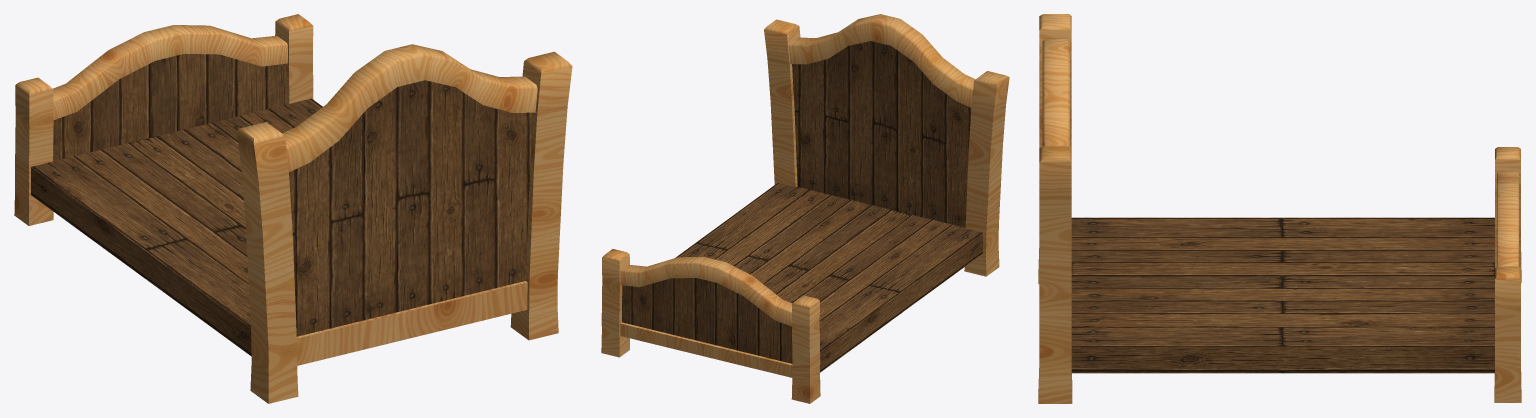
Rendered from Bedroom_Bed_Drop.fbx.
The picture shows the model from 3 angles, left to right: view 1: azimuth 30°, elevation 25°; view 2: azimuth 150°, elevation 25°; view 3: azimuth 270°, elevation 25°; orthographic projection. The views are drawn at different scales.
Parts seen in each view (by area): view 1: Bedroom_Bed_Drop.001, Bedroom_Bed_Drop.006, Bedroom_Bed_Drop.009, Bedroom_Bed_Drop.003, Bedroom_Bed_Drop.002, Bedroom_Bed_Drop.000, Bedroom_Bed_Drop.005, Bedroom_Bed_Drop.008, Bedroom_Bed_Drop.004; view 2: Bedroom_Bed_Drop.001, Bedroom_Bed_Drop.006, Bedroom_Bed_Drop.000, Bedroom_Bed_Drop.007, Bedroom_Bed_Drop.003, Bedroom_Bed_Drop.009, Bedroom_Bed_Drop.002, Bedroom_Bed_Drop.005, Bedroom_Bed_Drop.004, Bedroom_Bed_Drop.008; view 3: Bedroom_Bed_Drop.008, Bedroom_Bed_Drop.007, Bedroom_Bed_Drop.009, Bedroom_Bed_Drop.000, Bedroom_Bed_Drop.002, Bedroom_Bed_Drop.004, Bedroom_Bed_Drop.001, Bedroom_Bed_Drop.006, Bedroom_Bed_Drop.003, Bedroom_Bed_Drop.005.
Boxes of the visible parts, <box> form: Bedroom_Bed_Drop.001: <box>282,44,537,365</box>; Bedroom_Bed_Drop.006: <box>53,25,287,161</box>; Bedroom_Bed_Drop.009: <box>31,133,245,277</box>; Bedroom_Bed_Drop.003: <box>236,122,298,403</box>; Bedroom_Bed_Drop.002: <box>510,51,572,340</box>; Bedroom_Bed_Drop.000: <box>143,225,251,356</box>; Bedroom_Bed_Drop.005: <box>14,77,53,225</box>; Bedroom_Bed_Drop.008: <box>171,98,322,184</box>; Bedroom_Bed_Drop.004: <box>275,14,313,104</box>; Bedroom_Bed_Drop.001: <box>788,14,975,227</box>; Bedroom_Bed_Drop.006: <box>620,256,792,377</box>; Bedroom_Bed_Drop.000: <box>799,207,982,312</box>; Bedroom_Bed_Drop.007: <box>696,183,880,267</box>; Bedroom_Bed_Drop.003: <box>964,71,1009,276</box>; Bedroom_Bed_Drop.009: <box>770,268,901,372</box>; Bedroom_Bed_Drop.002: <box>764,19,800,186</box>; Bedroom_Bed_Drop.005: <box>791,295,820,403</box>; Bedroom_Bed_Drop.004: <box>601,249,629,357</box>; Bedroom_Bed_Drop.008: <box>675,243,798,288</box>; Bedroom_Bed_Drop.008: <box>1282,282,1494,373</box>; Bedroom_Bed_Drop.007: <box>1071,282,1282,373</box>; Bedroom_Bed_Drop.009: <box>1282,217,1494,282</box>; Bedroom_Bed_Drop.000: <box>1071,217,1282,282</box>; Bedroom_Bed_Drop.002: <box>1038,146,1072,403</box>; Bedroom_Bed_Drop.004: <box>1494,266,1521,402</box>; Bedroom_Bed_Drop.001: <box>1042,38,1070,146</box>; Bedroom_Bed_Drop.006: <box>1497,172,1518,266</box>; Bedroom_Bed_Drop.003: <box>1038,14,1071,284</box>; Bedroom_Bed_Drop.005: <box>1495,147,1521,283</box>.
Bounding box in the file's own units: 129 × 120 × 181.
